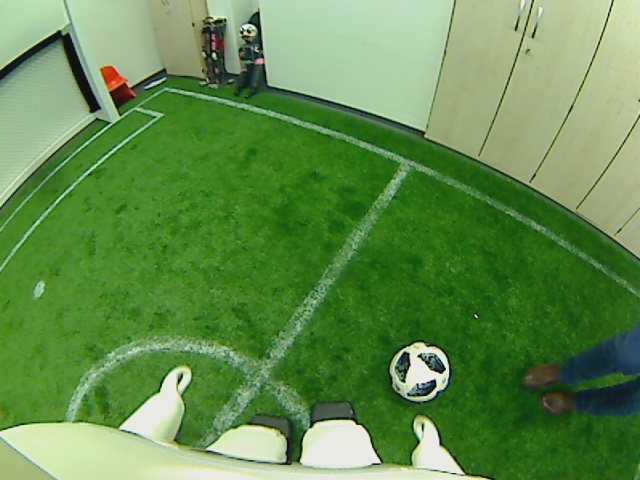ball: (386, 341, 451, 404)
